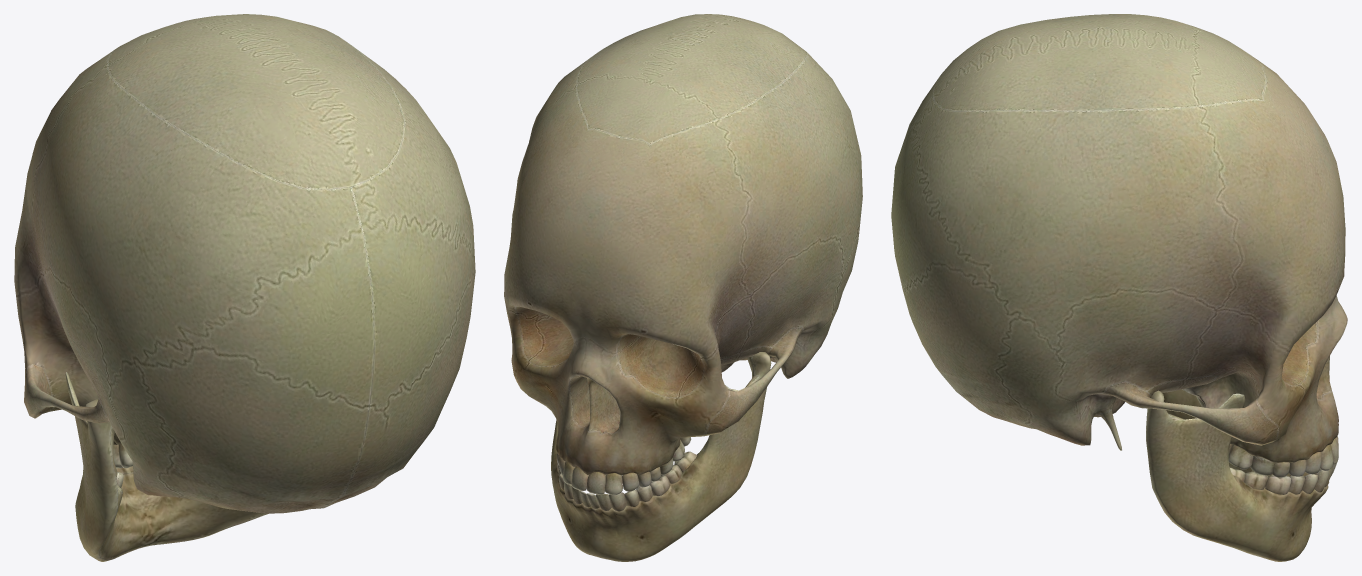
File: Cranio.gltf
3 renders of one model, left to right at view 1: azimuth 30°, elevation 25°; view 2: azimuth 150°, elevation 25°; view 3: azimuth 270°, elevation 25°, orthographic. The views are drawn at different scales.
Visible parts, largest first — view 1: Cranio; view 2: Cranio; view 3: Cranio.
Part boxes in pixels (x1,y1,x2,y2): Cranio: [14, 14, 475, 561]; Cranio: [504, 14, 862, 561]; Cranio: [891, 14, 1347, 561].
Bounding box in the file's own units: 0.3772 × 0.5962 × 0.4805.
Materials: 1 (1 with a texture image).
